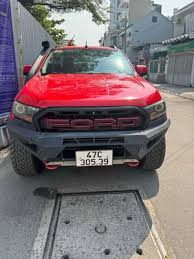Bien-so: (77, 150, 114, 168)
